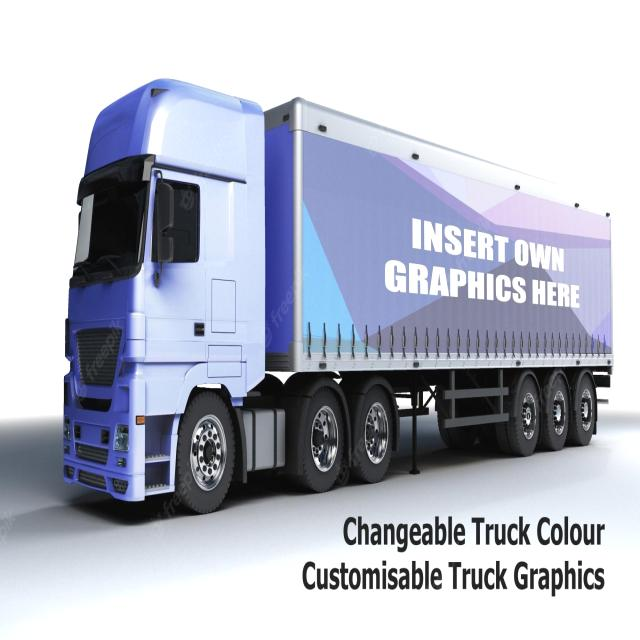Truck: (58, 74, 618, 524)
